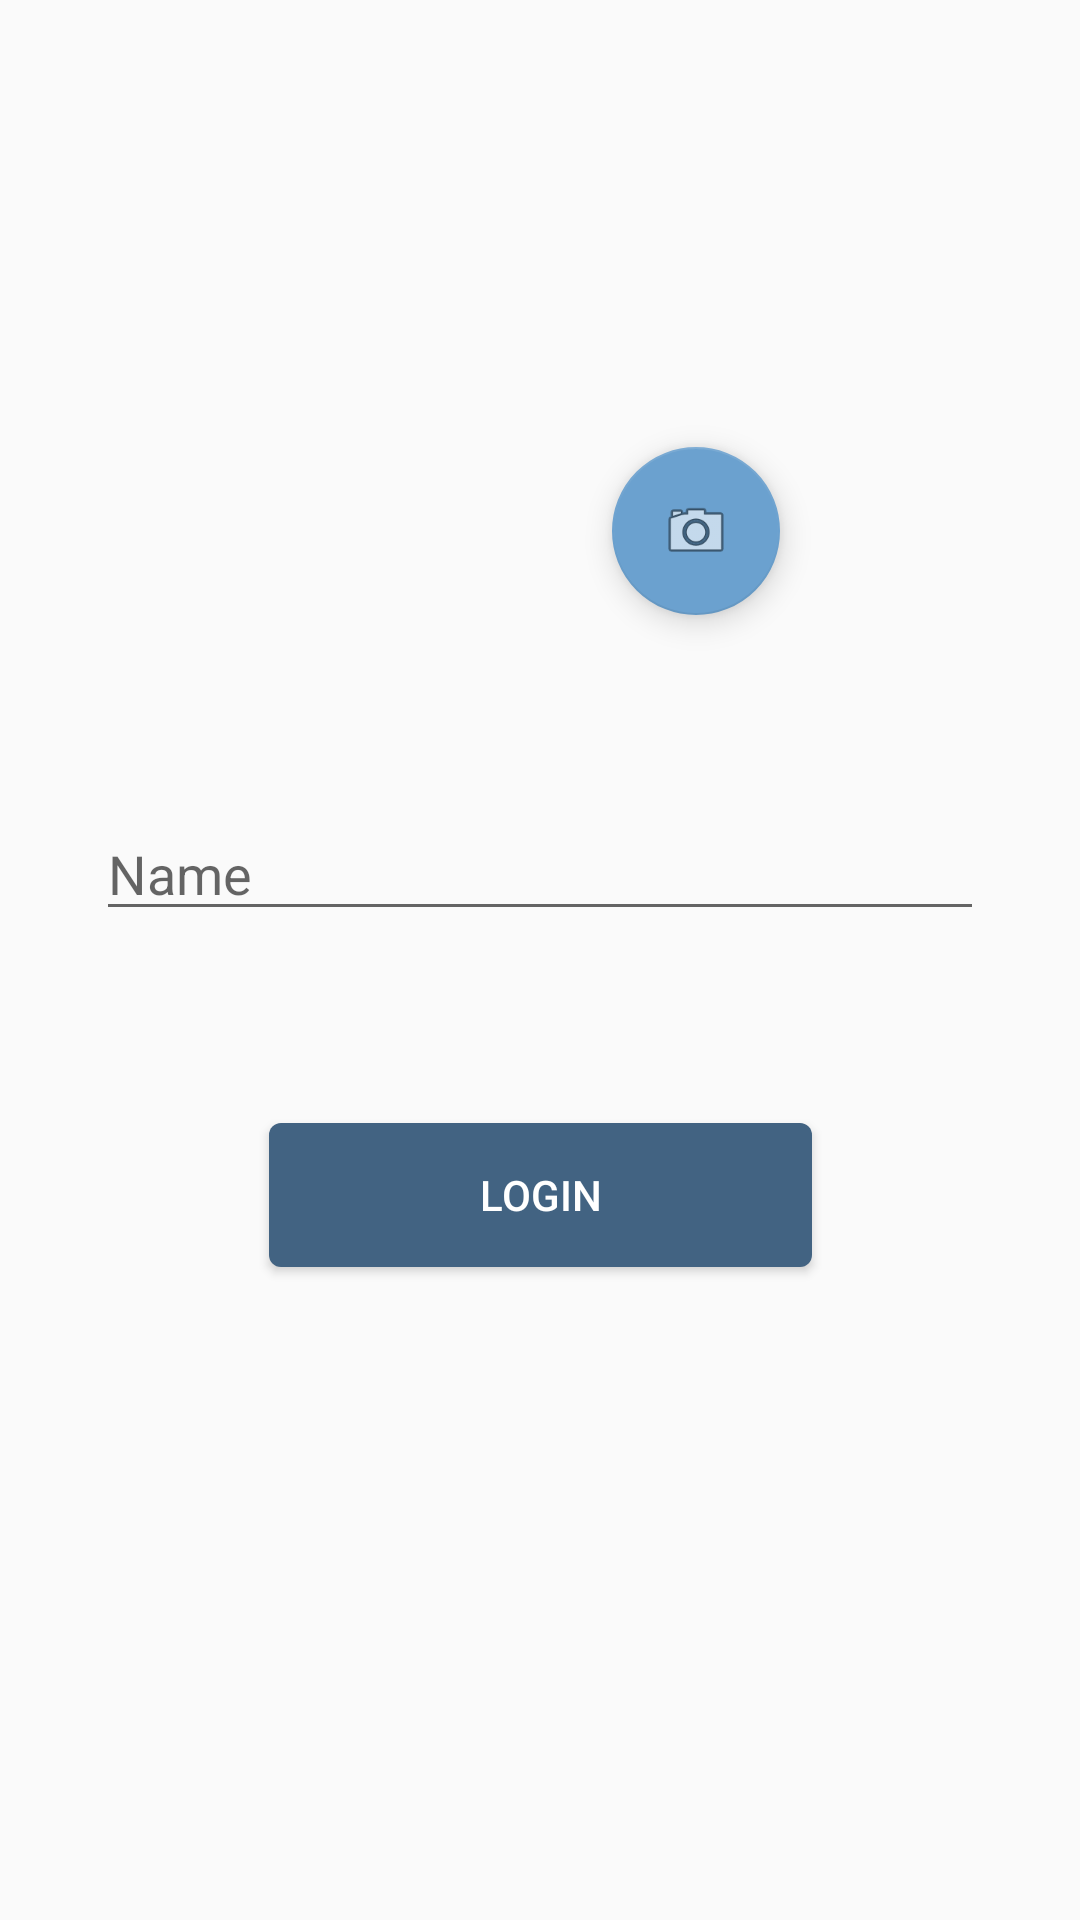

Screen size 1080w x 1920h. Icon name, then its center in pixels as point (x, y):
camera: point (696, 531)
